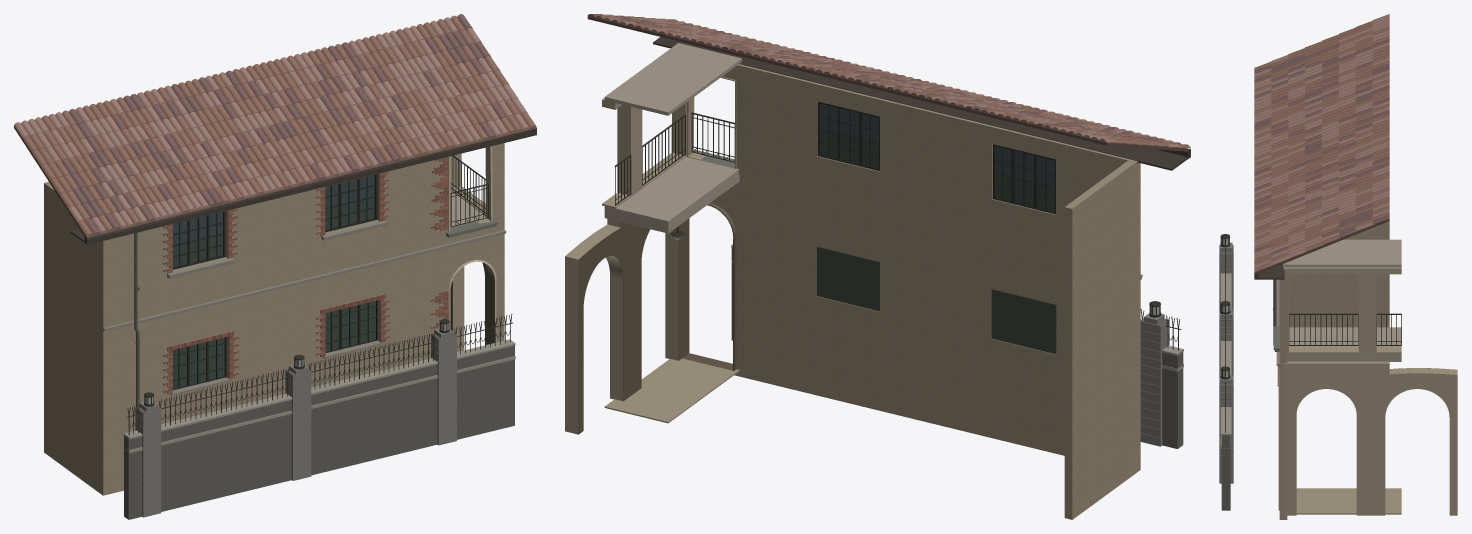
File: huangpu-shaanxi-191-197-residential-front-raw.glb
The picture shows the model from 3 angles, left to right: view 1: azimuth 30°, elevation 25°; view 2: azimuth 150°, elevation 25°; view 3: azimuth 270°, elevation 25°; orthographic projection. The views are drawn at different scales.
Visible parts, largest first — view 1: 陕西南路195号住宅与南端叠廊; view 2: 陕西南路195号住宅与南端叠廊; view 3: 陕西南路195号住宅与南端叠廊.
Boxes of the visible parts, x1=… form: 陕西南路195号住宅与南端叠廊: x1=14, y1=14, x2=536, y2=519; 陕西南路195号住宅与南端叠廊: x1=565, y1=14, x2=1190, y2=519; 陕西南路195号住宅与南端叠廊: x1=1219, y1=14, x2=1457, y2=519.
Bounding box in the file's own units: 12.39 × 8.86 × 6.13.
35 materials, 1 textured.
